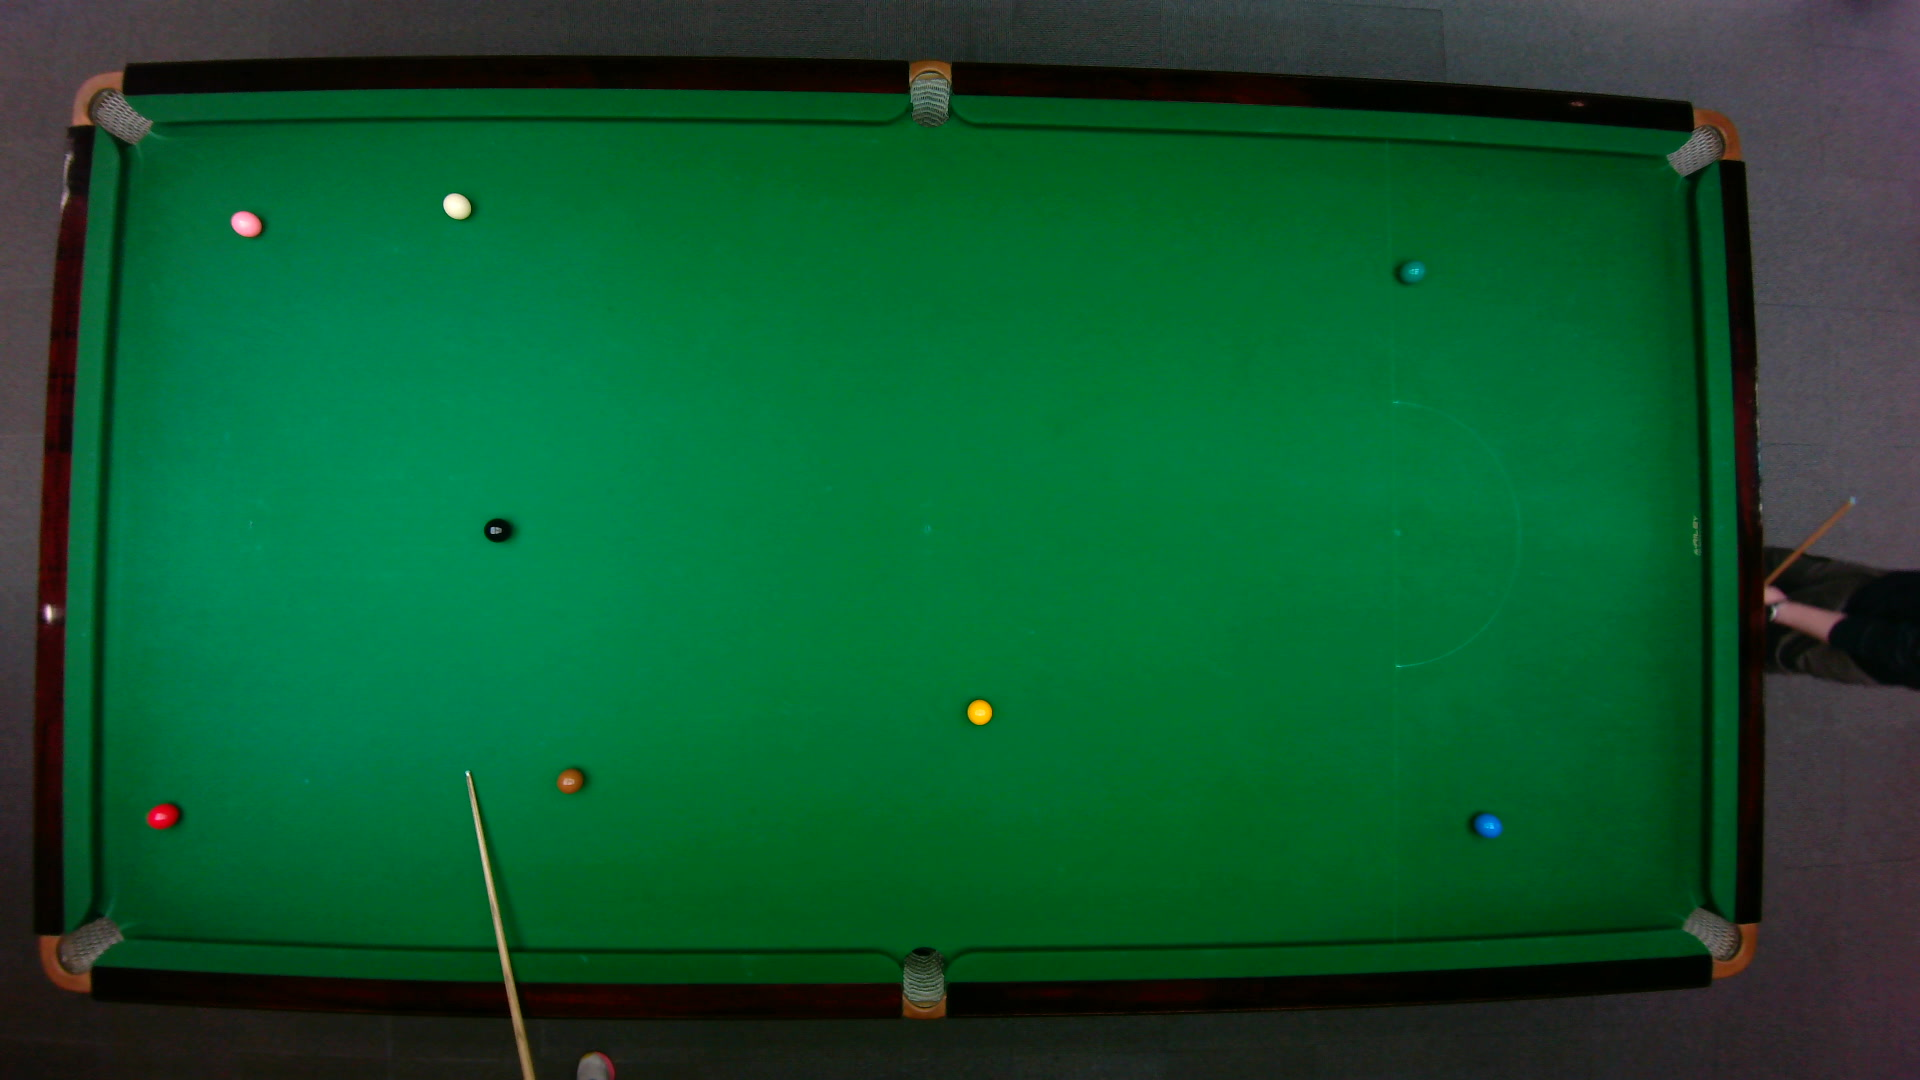bag: (37, 914, 125, 992), (69, 71, 156, 146), (1677, 905, 1760, 978), (1665, 109, 1745, 179), (901, 944, 945, 1021), (909, 59, 952, 129)
black: (483, 516, 513, 545)
blue: (1472, 811, 1505, 839)
brown: (555, 766, 585, 796)
cue: (463, 767, 535, 1080)
green: (1396, 258, 1427, 285)
pink: (228, 208, 264, 239)
red: (144, 800, 183, 831)
white: (440, 191, 473, 222)
yellow: (965, 698, 994, 727)
zone: (1389, 400, 1520, 669)
